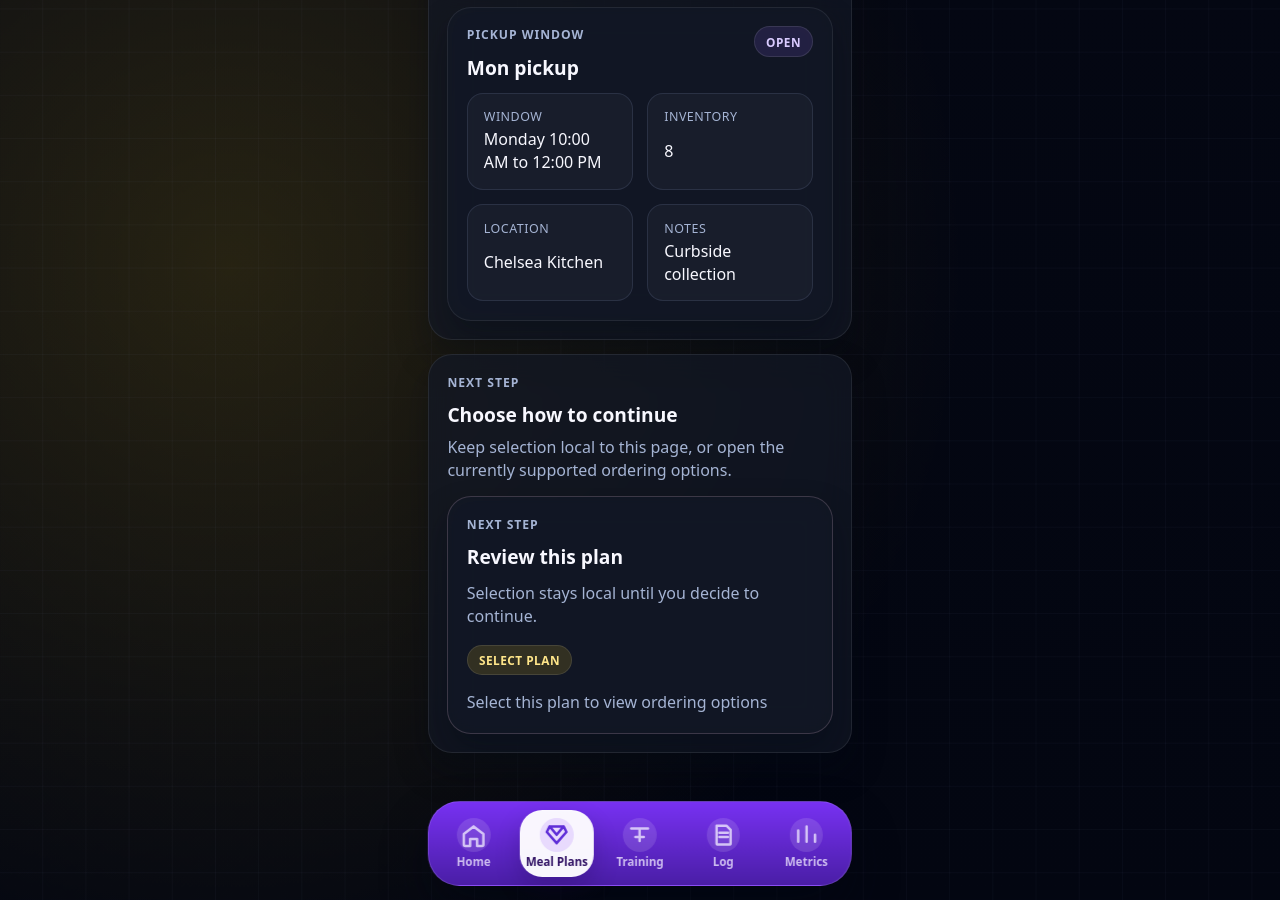
Test case: ClientMealPlanDetailPage mobile experience › preserves the existing checkout session payload, success flow, and redirect message
The width and height of the screenshot is (1280, 900).
(page scrolled)
Click the button named "Select Lean Fuel Week for checkout": coordinates (520, 660) [467,645,572,675]
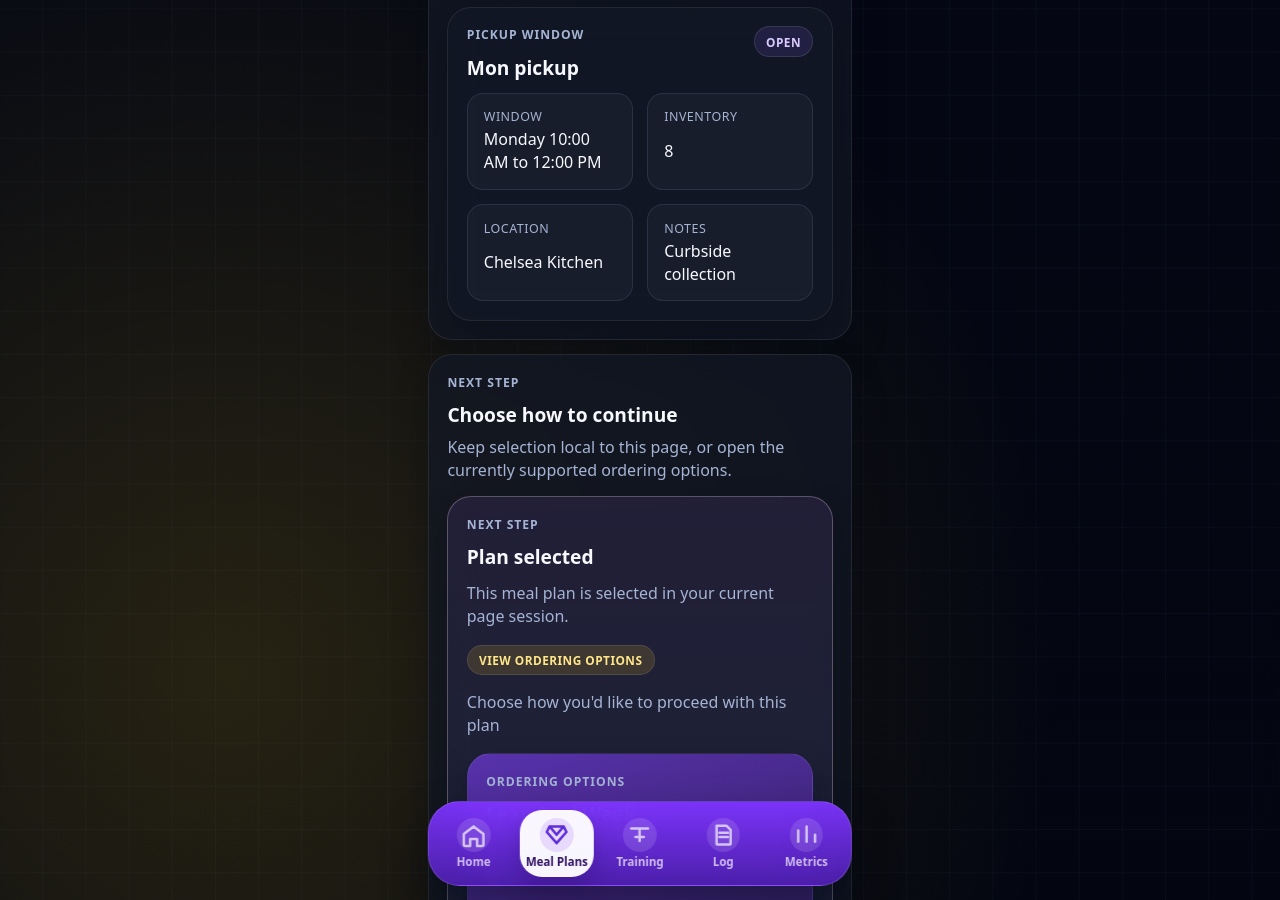
Now the button named "View ordering options for Lean Fuel Week" is shown
Click the button named "View ordering options for Lean Fuel Week": coordinates (561, 660) [467,645,655,675]
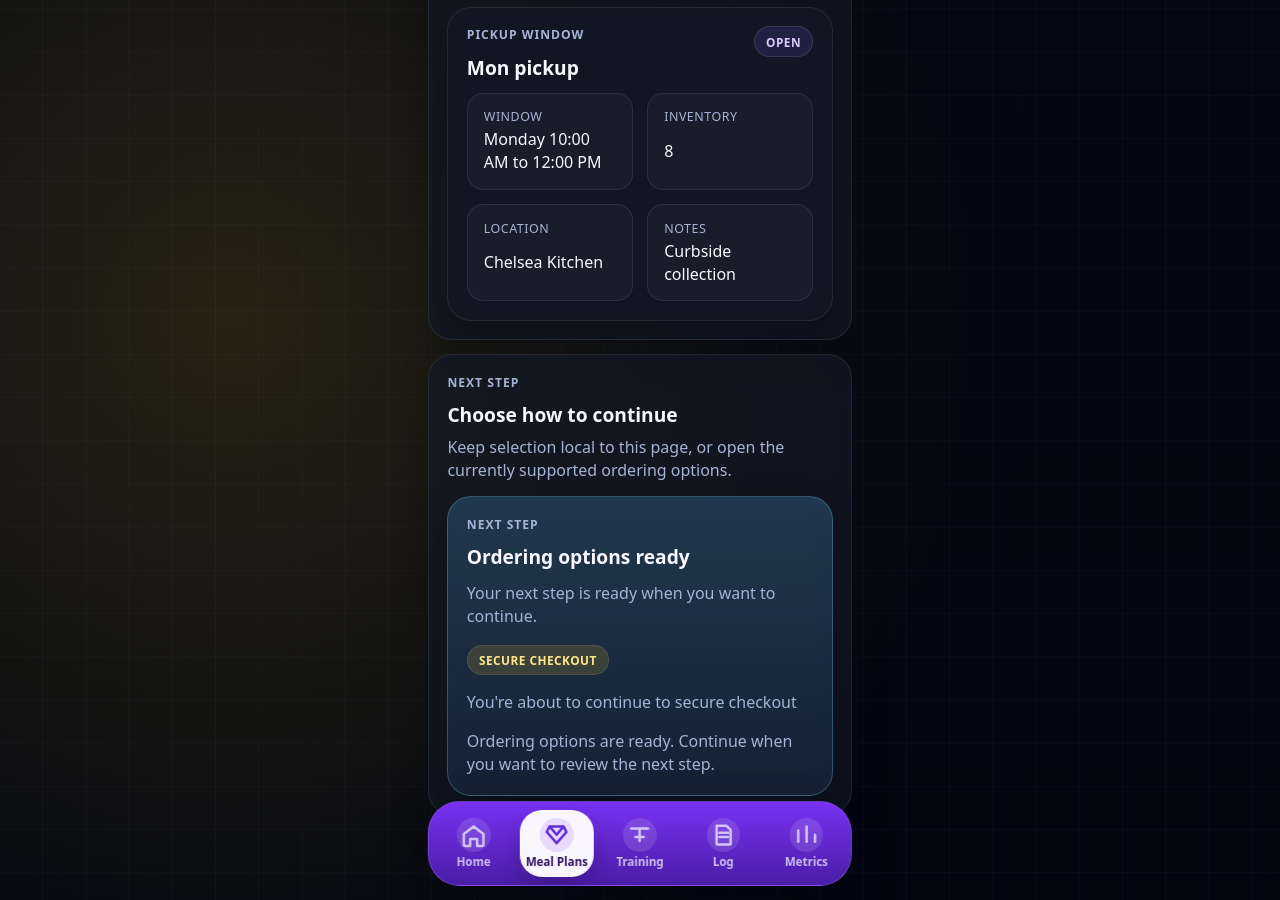
Now the text "Ordering options are ready. Continue when you want to review the next step." is shown, box [467,730,813,777]
Click the link "Secure Checkout": coordinates (538, 660) [467,645,609,675]
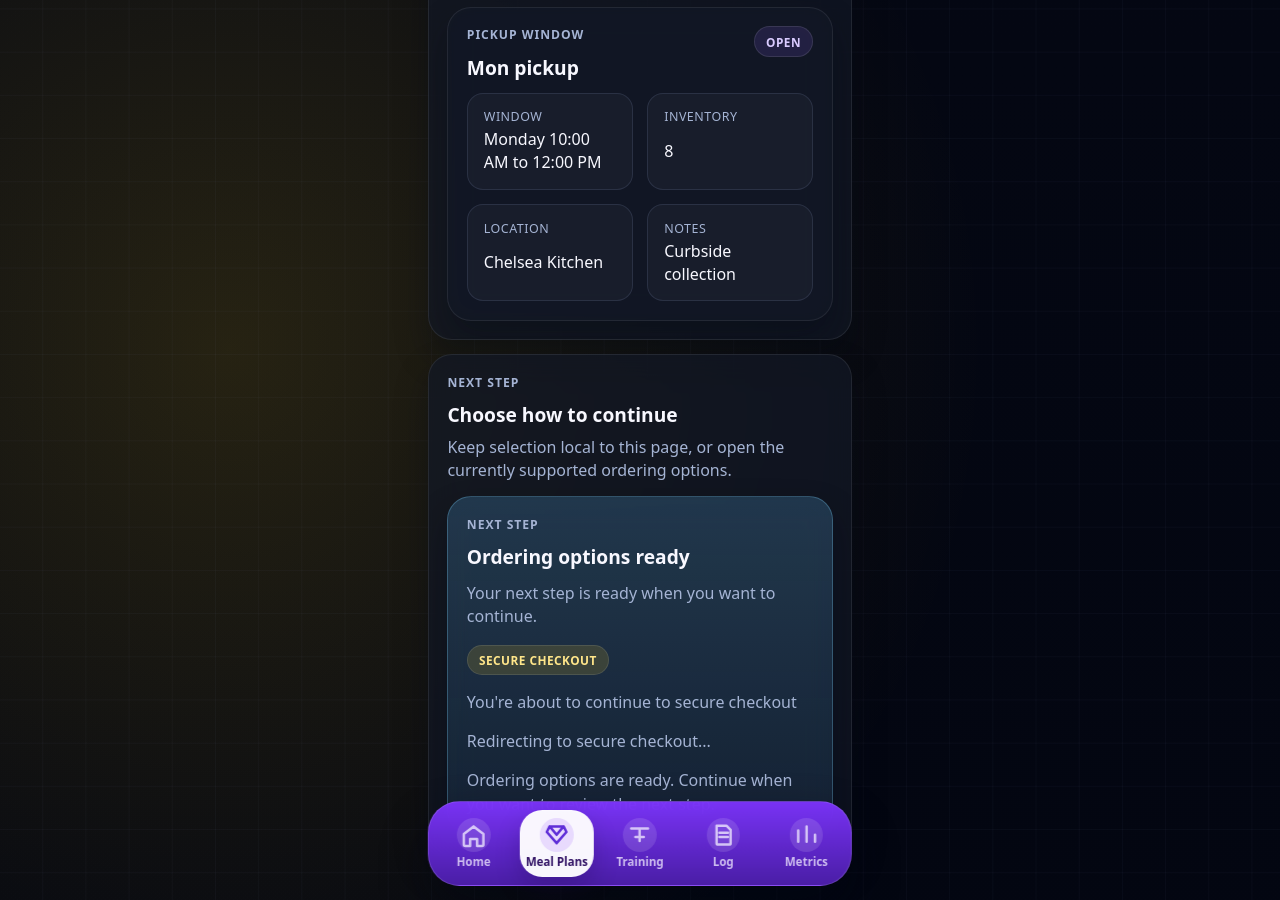
Now the text "Redirecting to secure checkout..." is shown, box [467,730,711,752]
